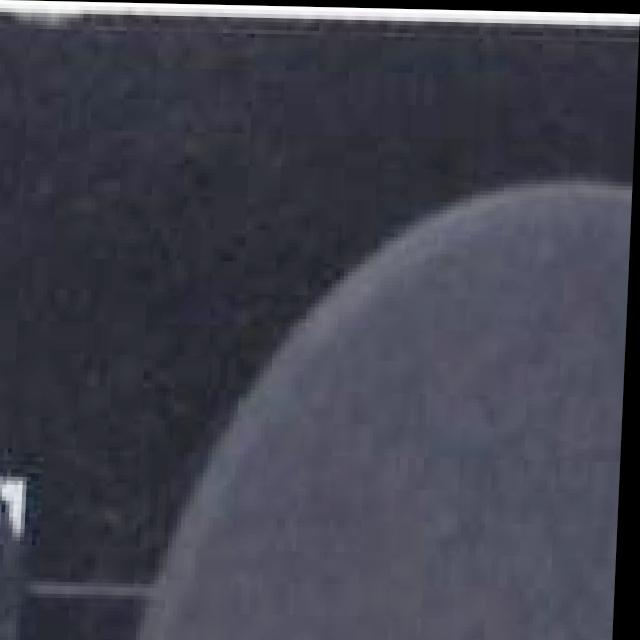buzzer: (98, 186, 634, 640)
connector: (0, 472, 24, 640)
